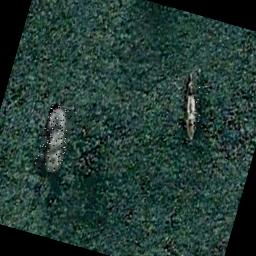boat: (34, 104, 76, 175), (173, 80, 210, 142)
